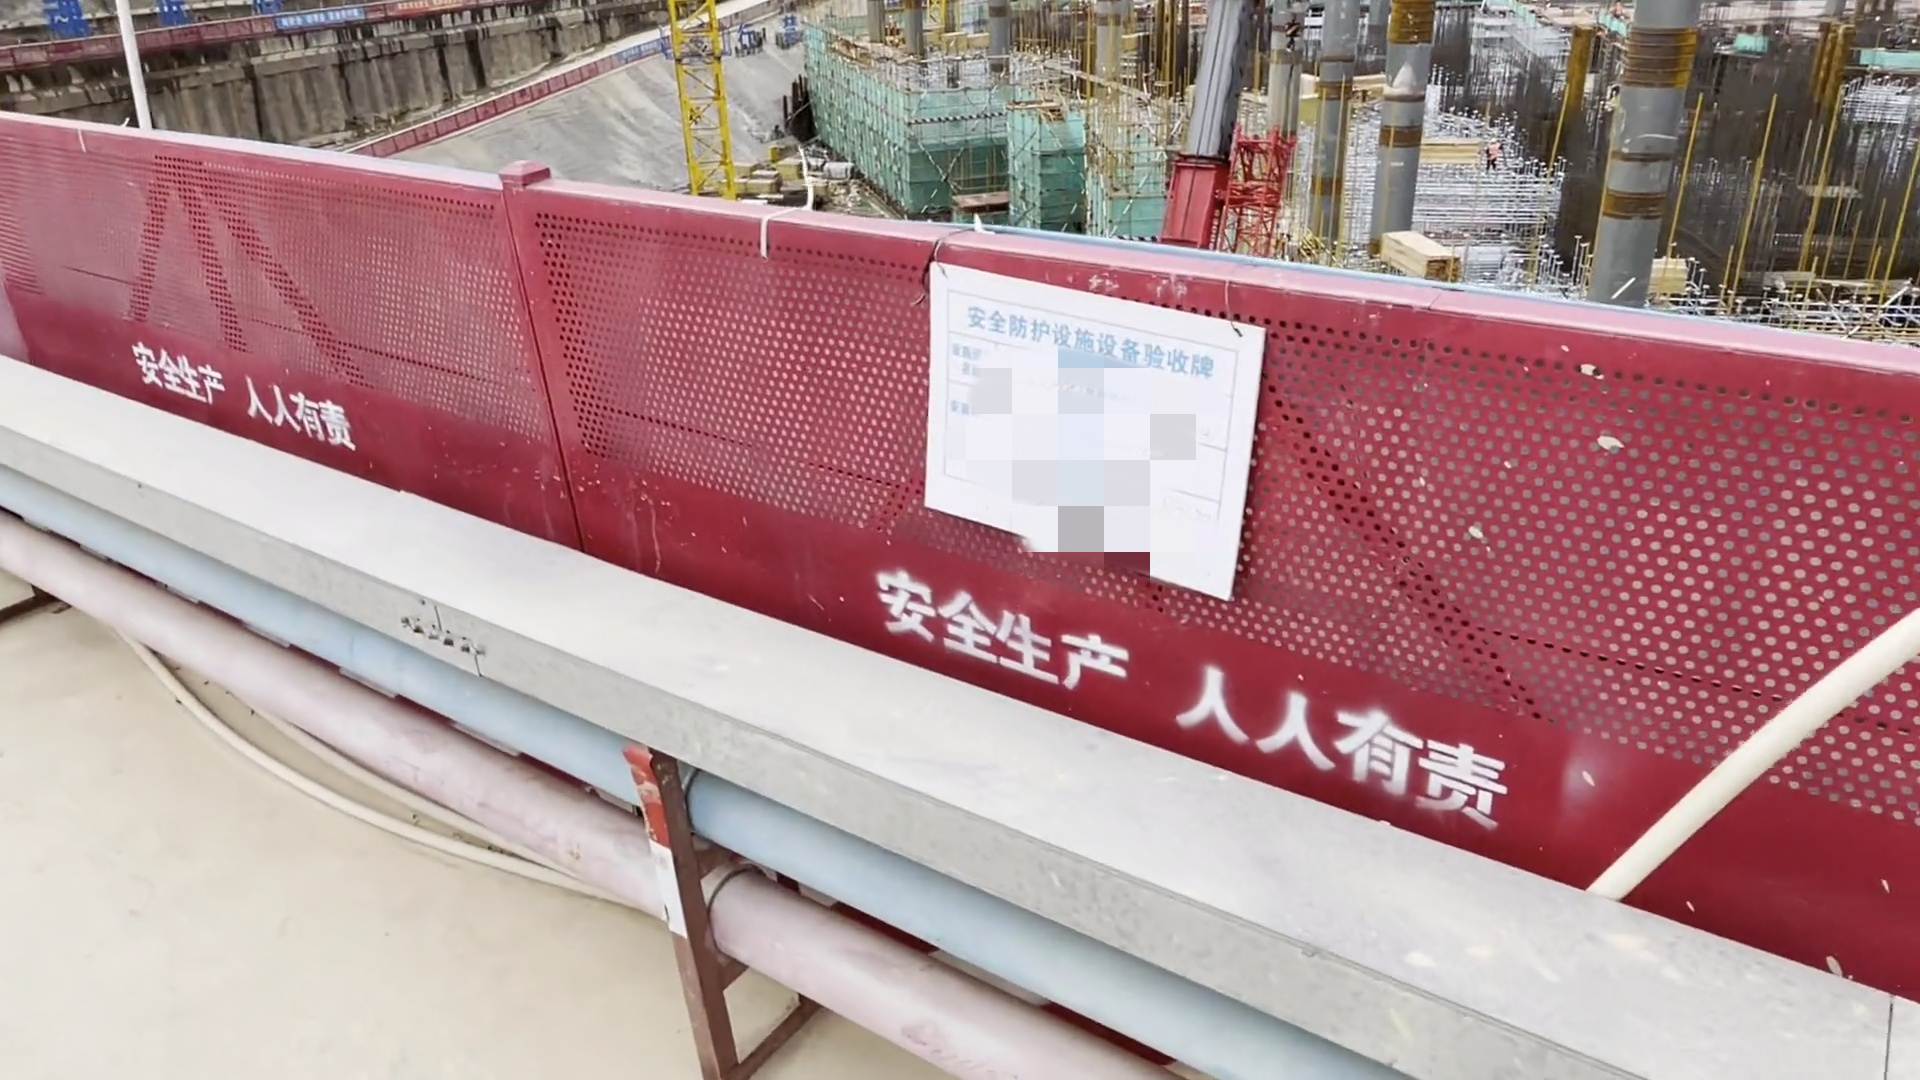fence: (1, 108, 1920, 1080)
